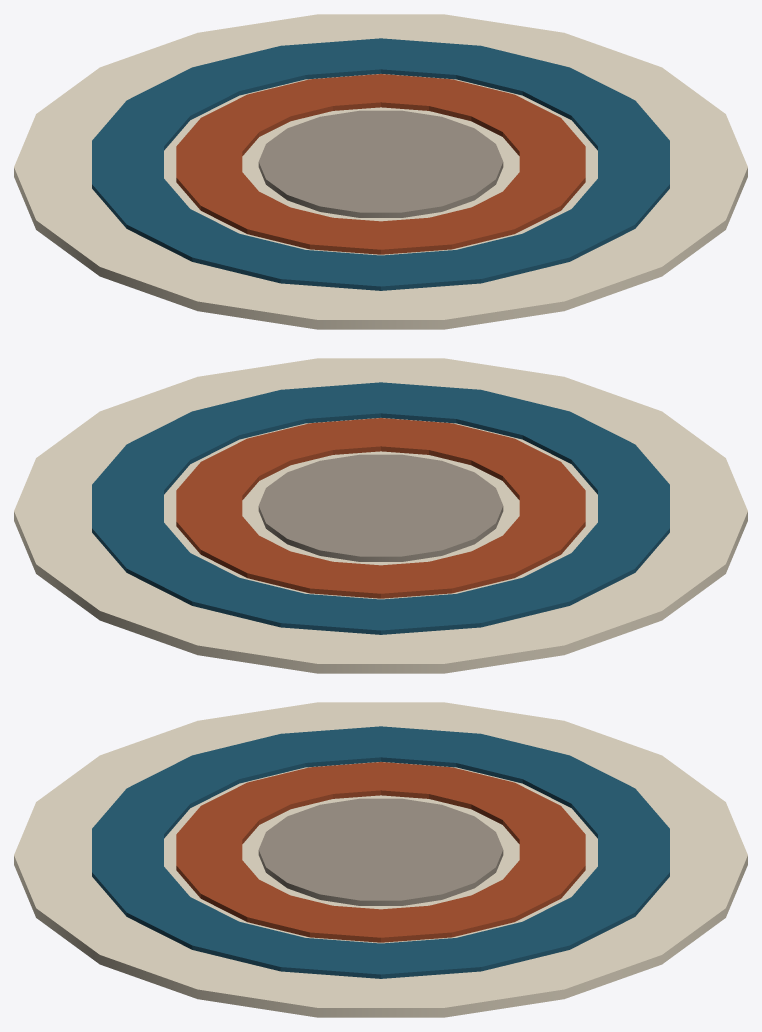
Rendered from decor_mosaic_roundel_LOD1.glb.
The picture shows the model from 3 angles, top to bottom: view 1: azimuth 30°, elevation 25°; view 2: azimuth 150°, elevation 25°; view 3: azimuth 270°, elevation 25°; orthographic projection.
Parts seen in each view (by area): view 1: decor_mosaic_roundel_LOD1; view 2: decor_mosaic_roundel_LOD1; view 3: decor_mosaic_roundel_LOD1.
Boxes of the visible parts, left/top/right/bottom form: decor_mosaic_roundel_LOD1: left=14, top=14, right=747, bottom=329; decor_mosaic_roundel_LOD1: left=14, top=358, right=747, bottom=673; decor_mosaic_roundel_LOD1: left=14, top=702, right=747, bottom=1017.
Size of the model in its own units: 2.36 by 0.055 by 2.4.
